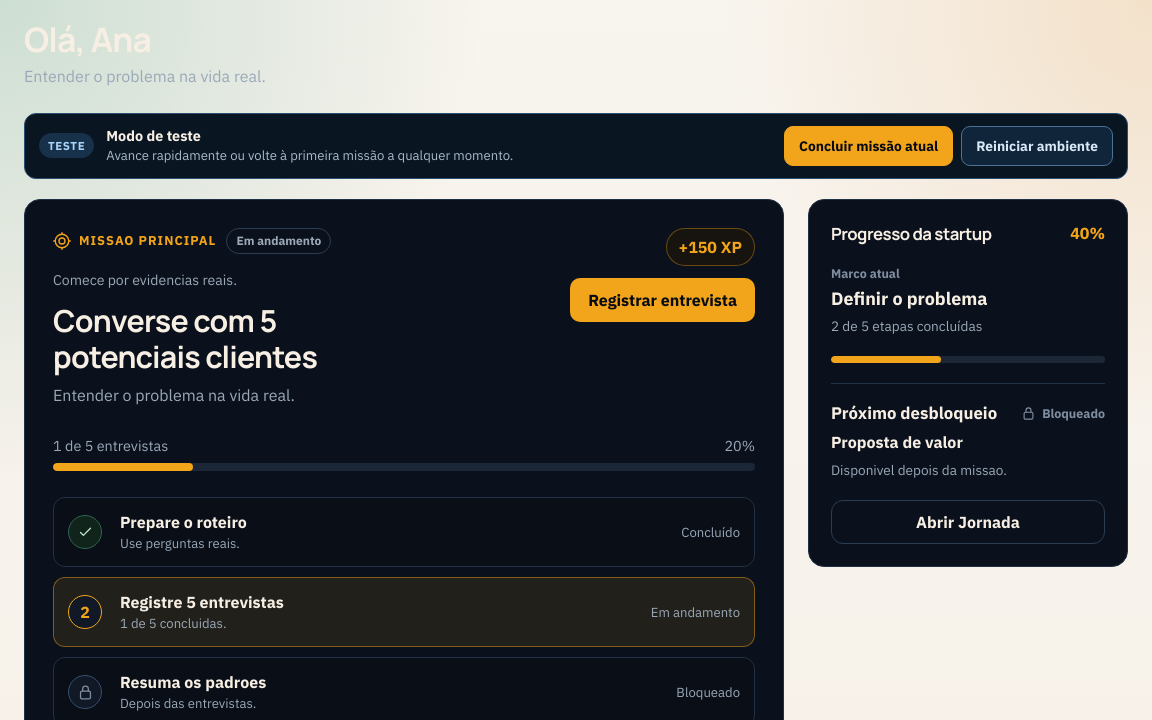
Test: StartupHomeScreen › keeps the reset dialog open when the backend rejects the request
Click the button "Reiniciar ambiente" at (1037, 146), box [961,126,1113,166]
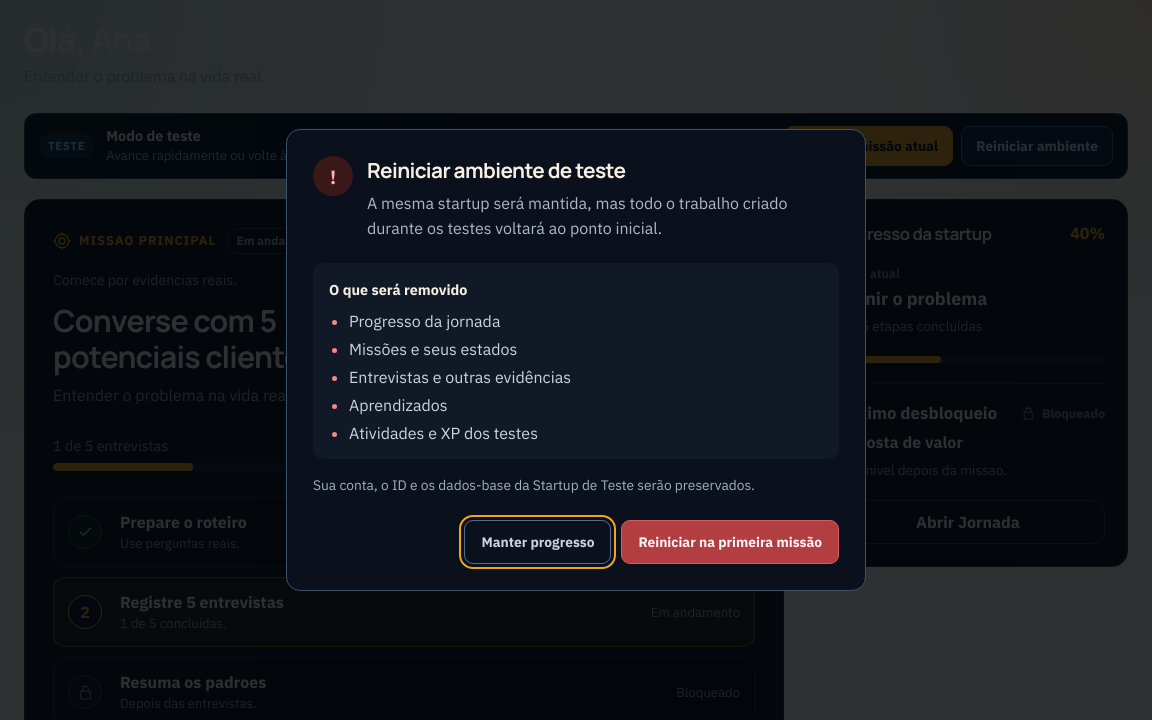
Click the button "Reiniciar na primeira missão" at (730, 542), box [621,520,839,564]
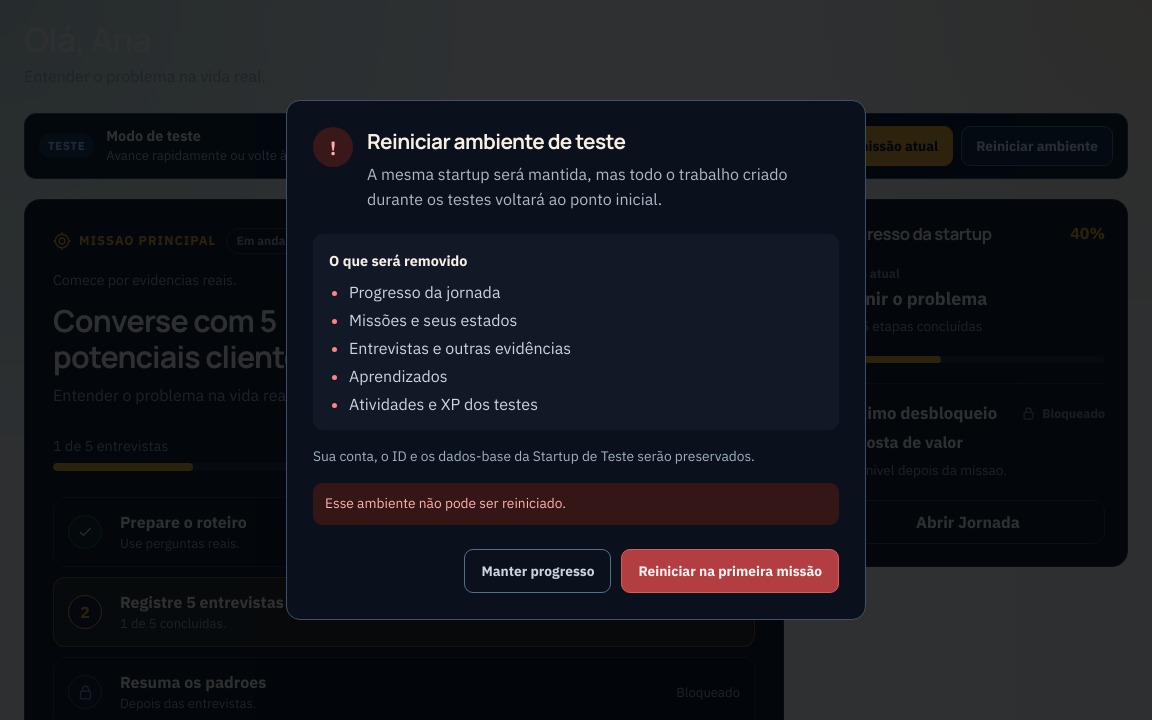
Expected: the dialog "Reiniciar ambiente de teste" is shown, [286,100,866,620]
Expected: the message reads "Esse ambiente não pode ser reiniciado.", [325,494,566,512]
